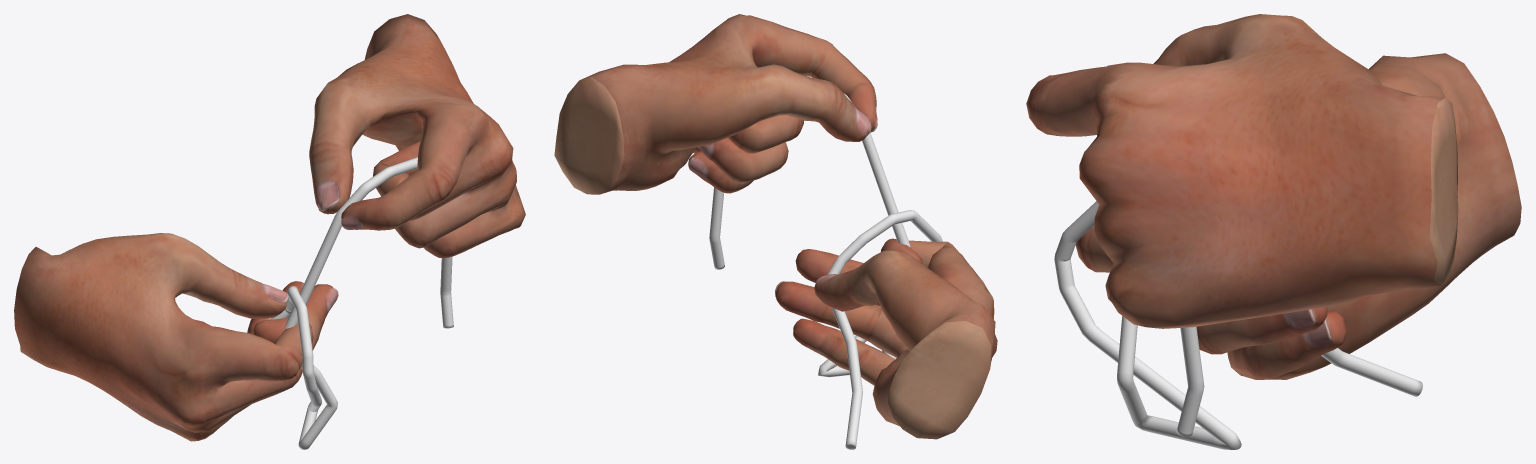
Rendered from zfk_part2_assi_takered.fbx.
3 renders of one model, left to right at view 1: azimuth 30°, elevation 25°; view 2: azimuth 150°, elevation 25°; view 3: azimuth 270°, elevation 25°, orthographic. The views are drawn at different scales.
Parts seen in each view (by area): view 1: Hand_R, Hand_L, faden_L, faden_R; view 2: Hand_L, Hand_R, faden_R, faden_L; view 3: Hand_L, Hand_R, faden_R, faden_L.
Part boxes in pixels (x1,y1,x2,y2): Hand_R: (14,233,338,441); Hand_L: (309,14,525,258); faden_L: (285,157,453,449); faden_R: (271,286,321,429); Hand_L: (554,14,877,194); Hand_R: (775,238,997,439); faden_R: (817,210,942,449); faden_L: (709,93,910,359); Hand_L: (1026,14,1458,328); Hand_R: (1075,53,1521,379); faden_R: (1054,201,1422,449); faden_L: (1117,316,1204,438).
Bounding box in the file's own units: 27.8 × 19.47 × 18.25.
